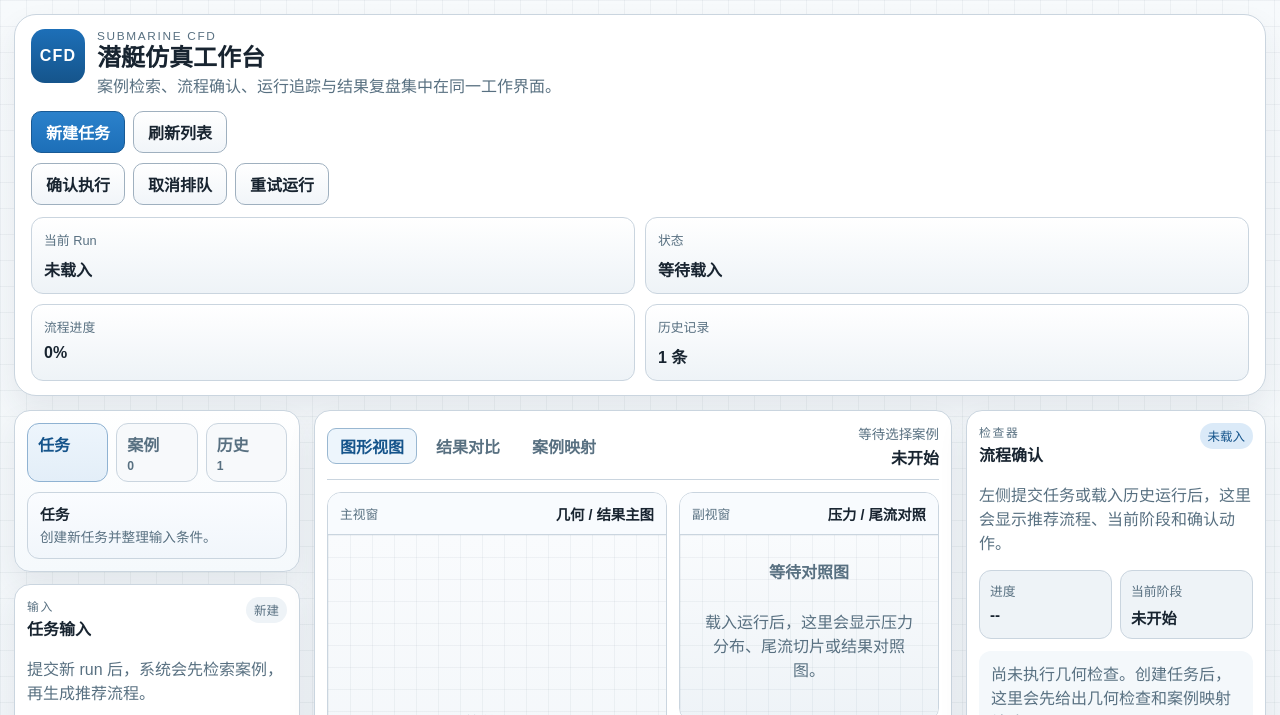
it: App › shows one focused left workspace panel at a time and lets users switch to history
Check: the heading "任务输入" is shown, box [27,616,91,640]
Click the tab "历史 1" at (246, 453), box [206,423,287,482]
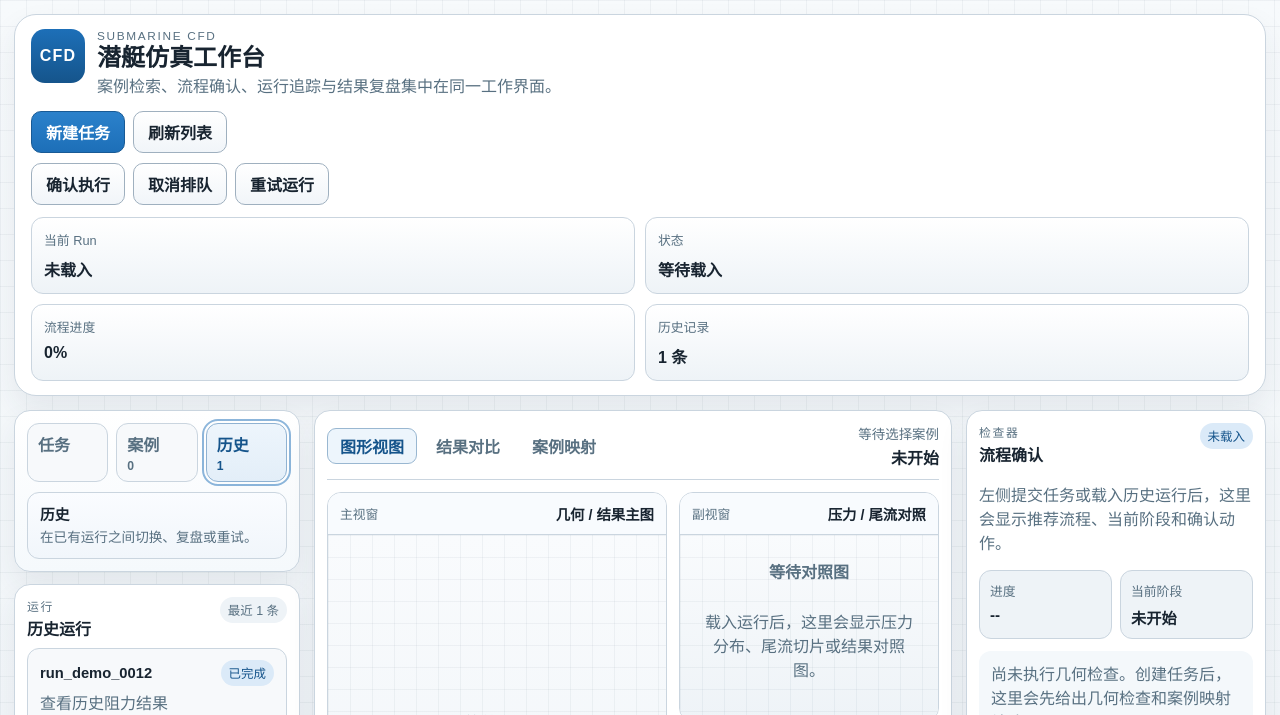
Check: the heading "历史运行" is shown, box [27,616,91,640]
Check: the heading "任务输入" is gone
